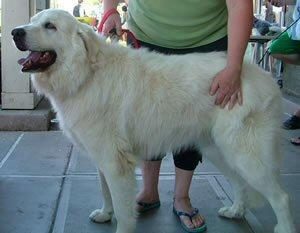Great_Pyrenees: (7, 5, 299, 229)
